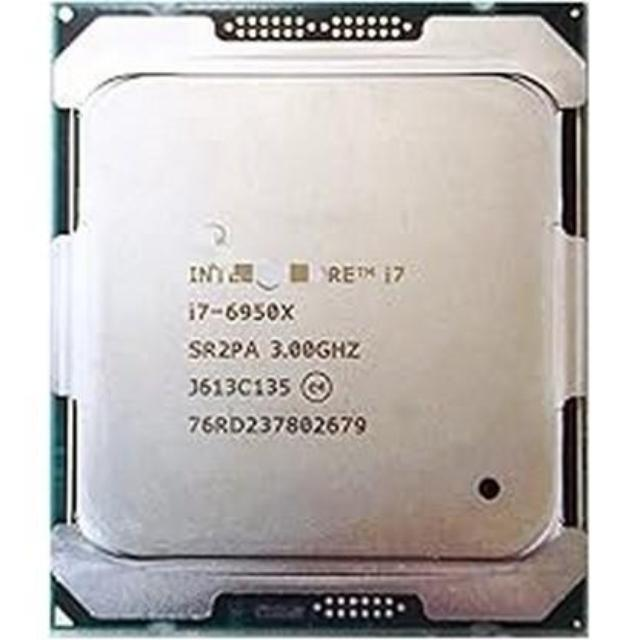CPU: (70, 19, 576, 574)
